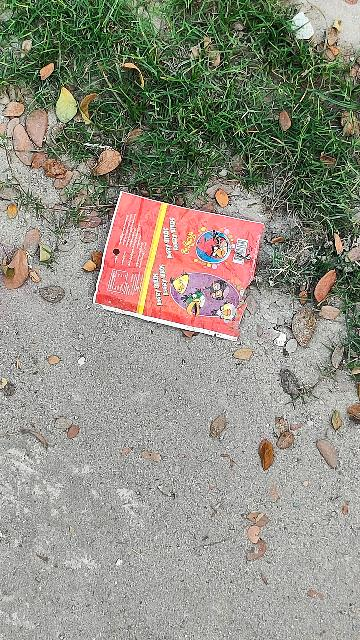polythene: (91, 186, 270, 342)
